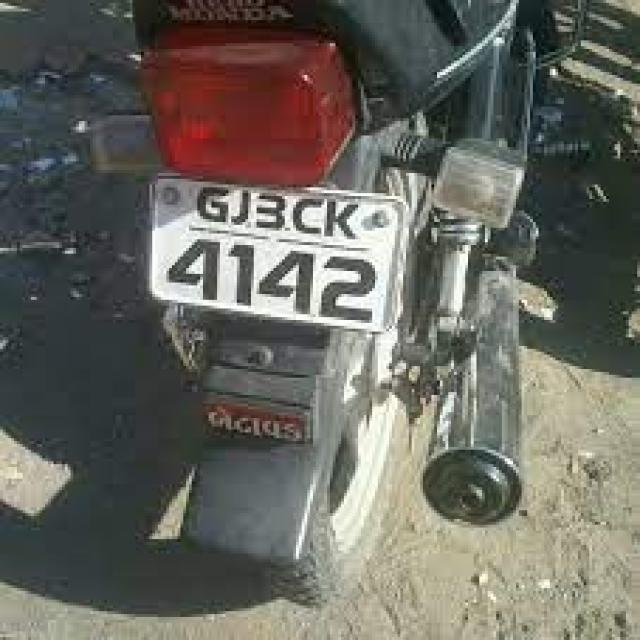license_plate: (144, 170, 406, 335)
